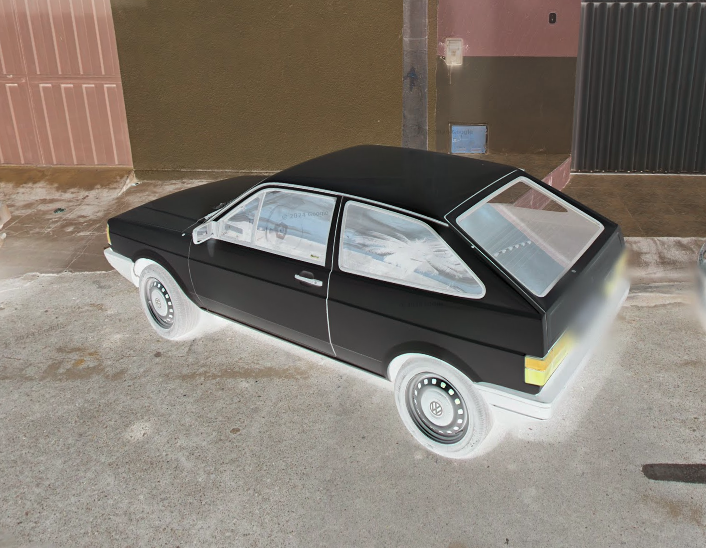car: (105, 141, 633, 476)
